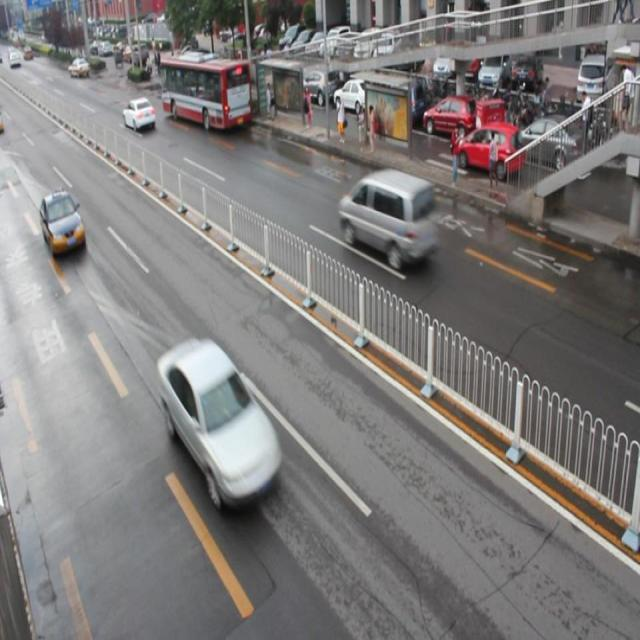car: (159, 338, 282, 501), (40, 187, 86, 256), (123, 96, 155, 132)
truck: (338, 170, 435, 269)
van: (161, 55, 250, 128)
